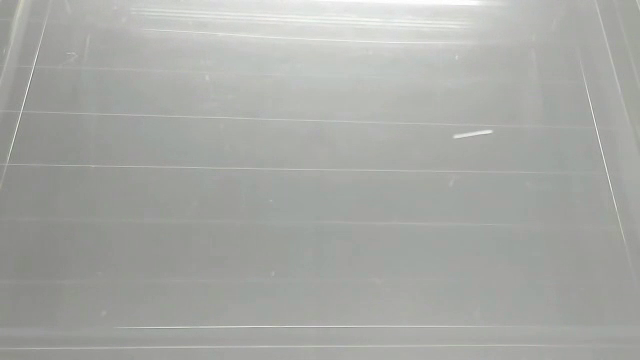alpha: (451, 127, 497, 142)
